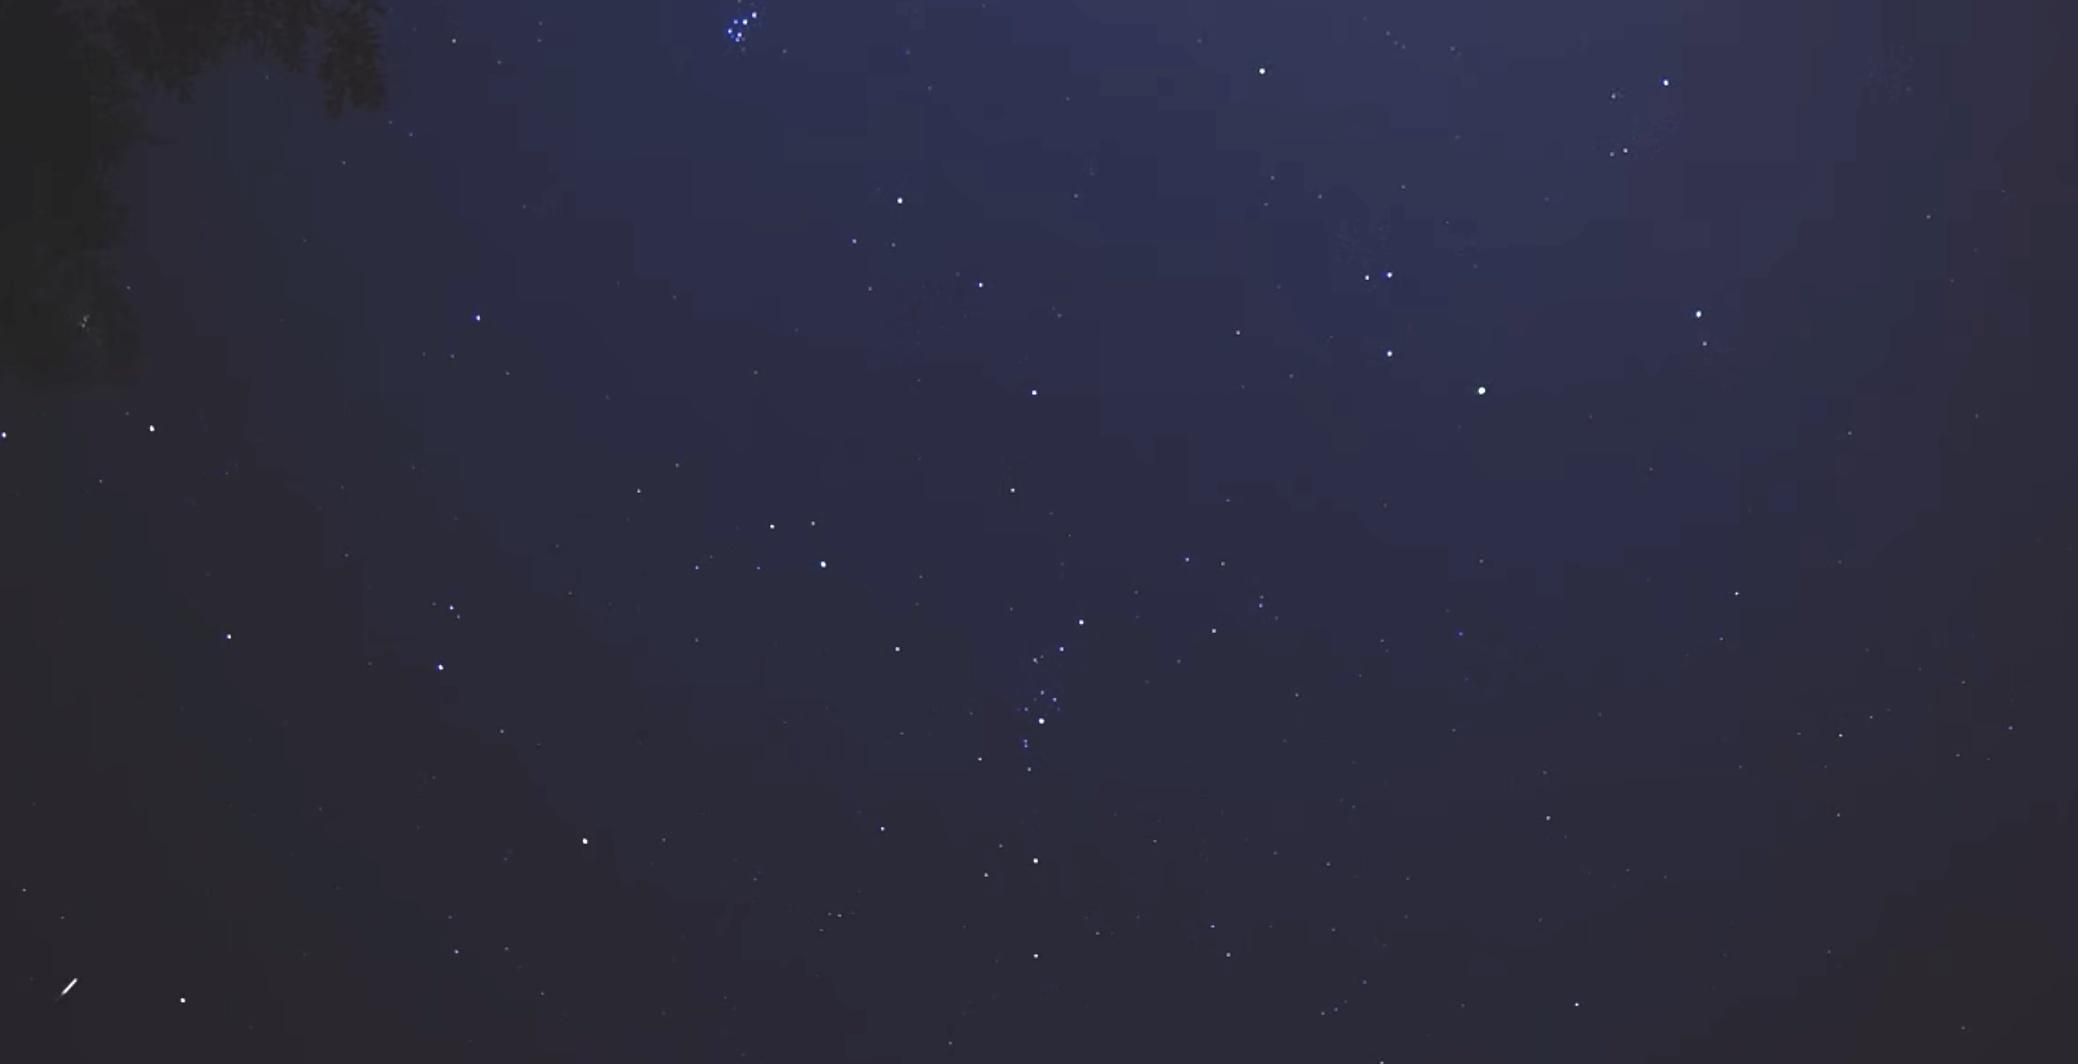meteorite: (9, 969, 130, 1006)
